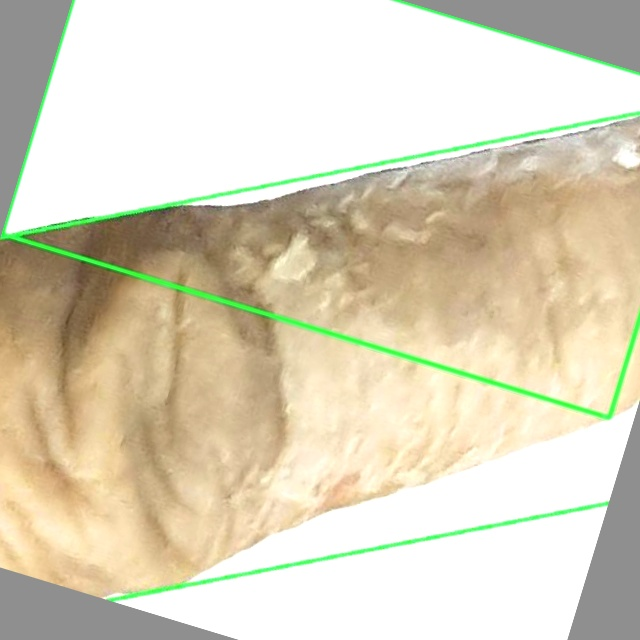Eczema: (0, 116, 639, 543), (2, 0, 639, 418)
